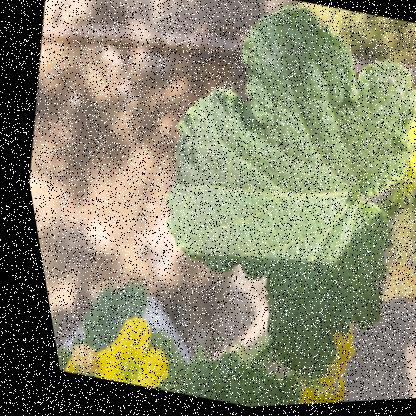Normal: (96, 0, 415, 392)
